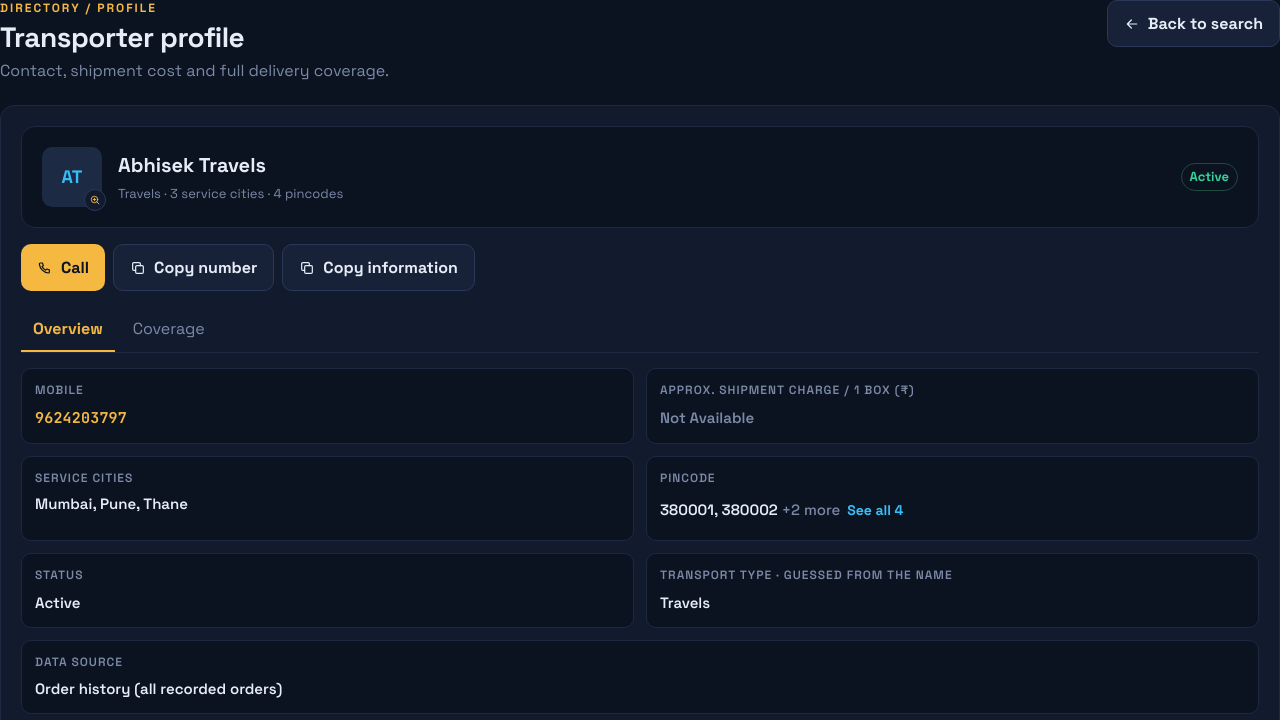
Test case: Pincodes: first 2, then +X more › on the profile overview -- the Coverage tab still lists every pincode
Expected: the text "380001, 380002" is shown, [660,500,778,519]
Expected: the text "+2 more" is shown, [782,500,840,519]
Click the tab "Coverage" at point(169, 330), box [121,307,217,352]
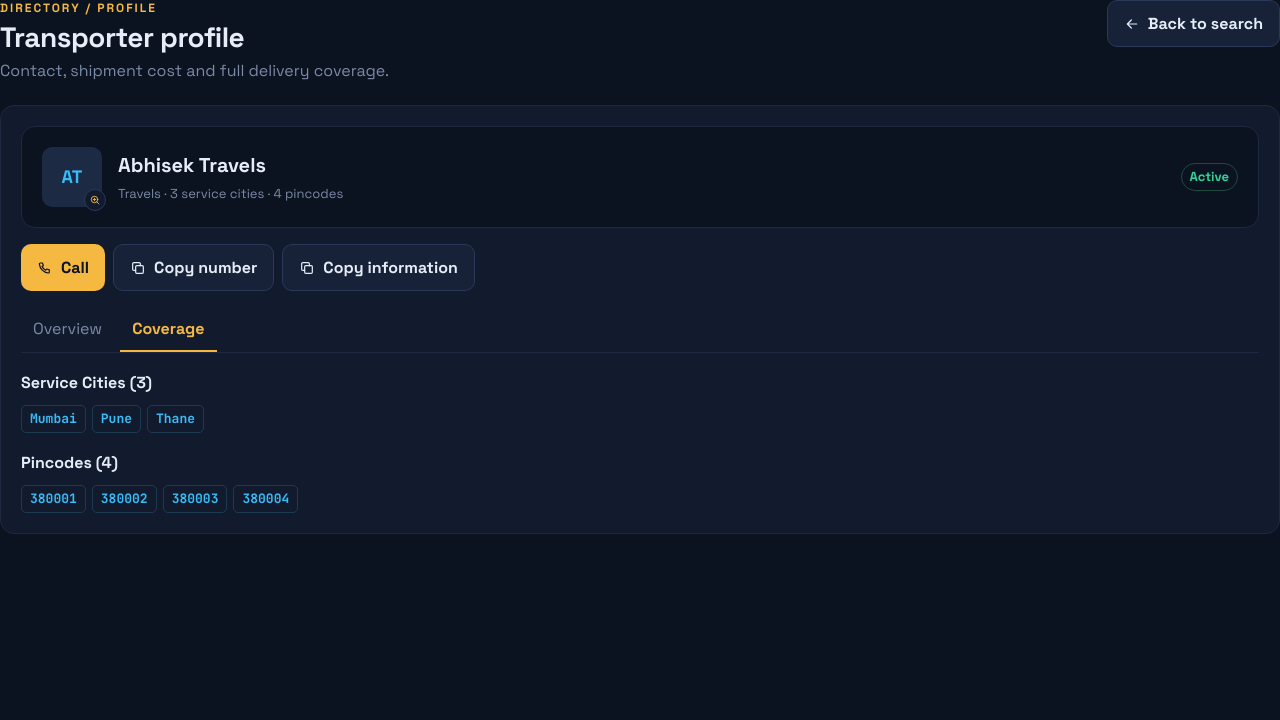
Expected: the heading "Pincodes (4)" is shown, [21,452,118,473]
